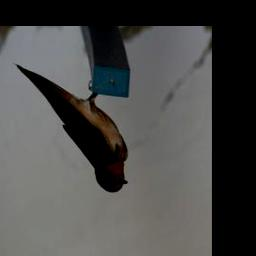Swallow: (14, 62, 131, 196)
